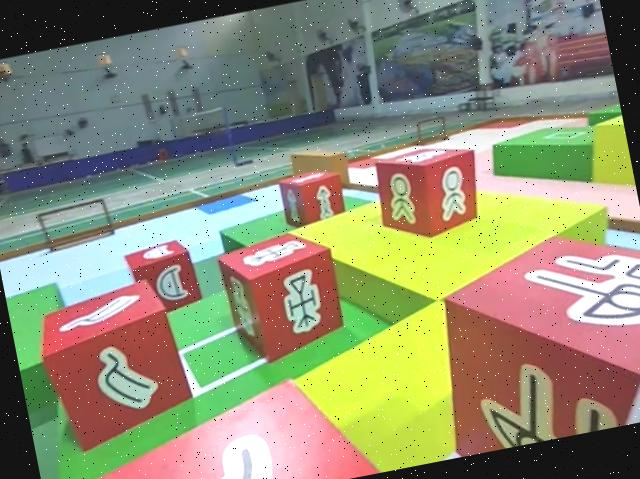R2 Real: (419, 217, 640, 457), (33, 273, 200, 449), (216, 226, 348, 362), (370, 139, 491, 245), (122, 235, 201, 316), (278, 166, 347, 230)
